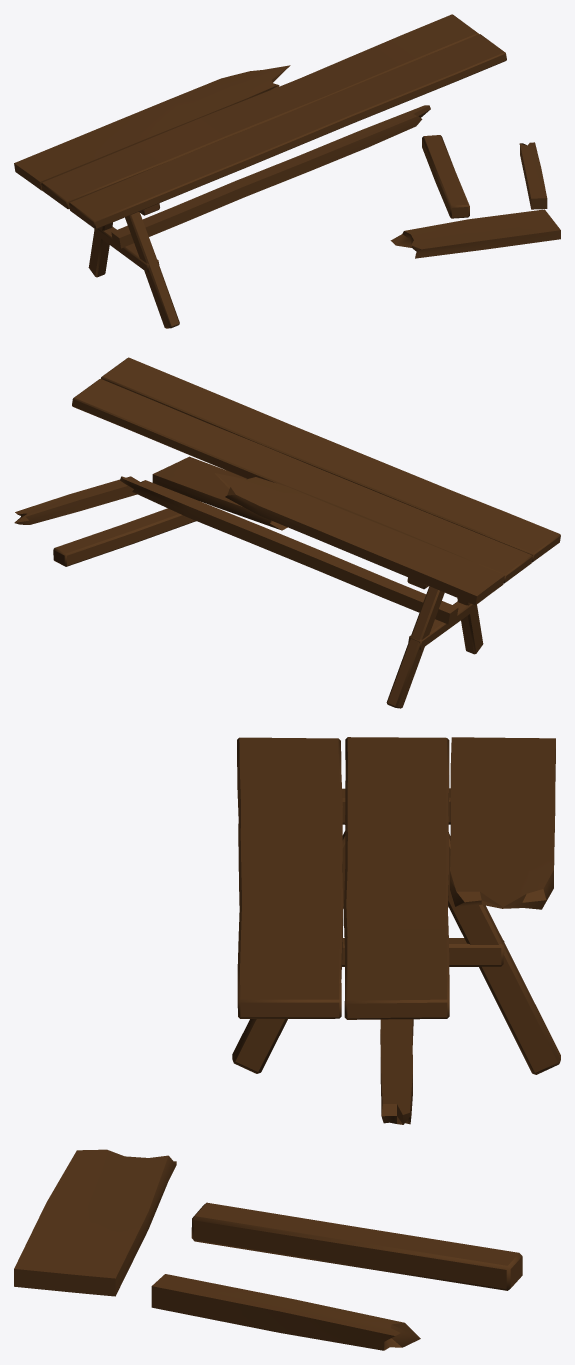
File: tisch_lang_kaputt.glb
3 renders of one model, top to bottom at view 1: azimuth 30°, elevation 25°; view 2: azimuth 150°, elevation 25°; view 3: azimuth 270°, elevation 25°, orthographic. The views are drawn at different scales.
Parts seen in each view (by area): view 1: tisch_lang_kaputt; view 2: tisch_lang_kaputt; view 3: tisch_lang_kaputt.
Boxes of the visible parts, x1,y1,x2,y2 form: tisch_lang_kaputt: (14,14,560,328); tisch_lang_kaputt: (14,357,560,708); tisch_lang_kaputt: (14,737,560,1350).
Bounding box in the file's own units: 2.76 × 1.09 × 1.37.
